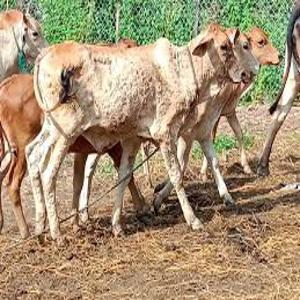lumpy skin diesease: (24, 22, 257, 245), (0, 72, 155, 240), (145, 25, 280, 213), (0, 7, 49, 234), (255, 0, 299, 179)
